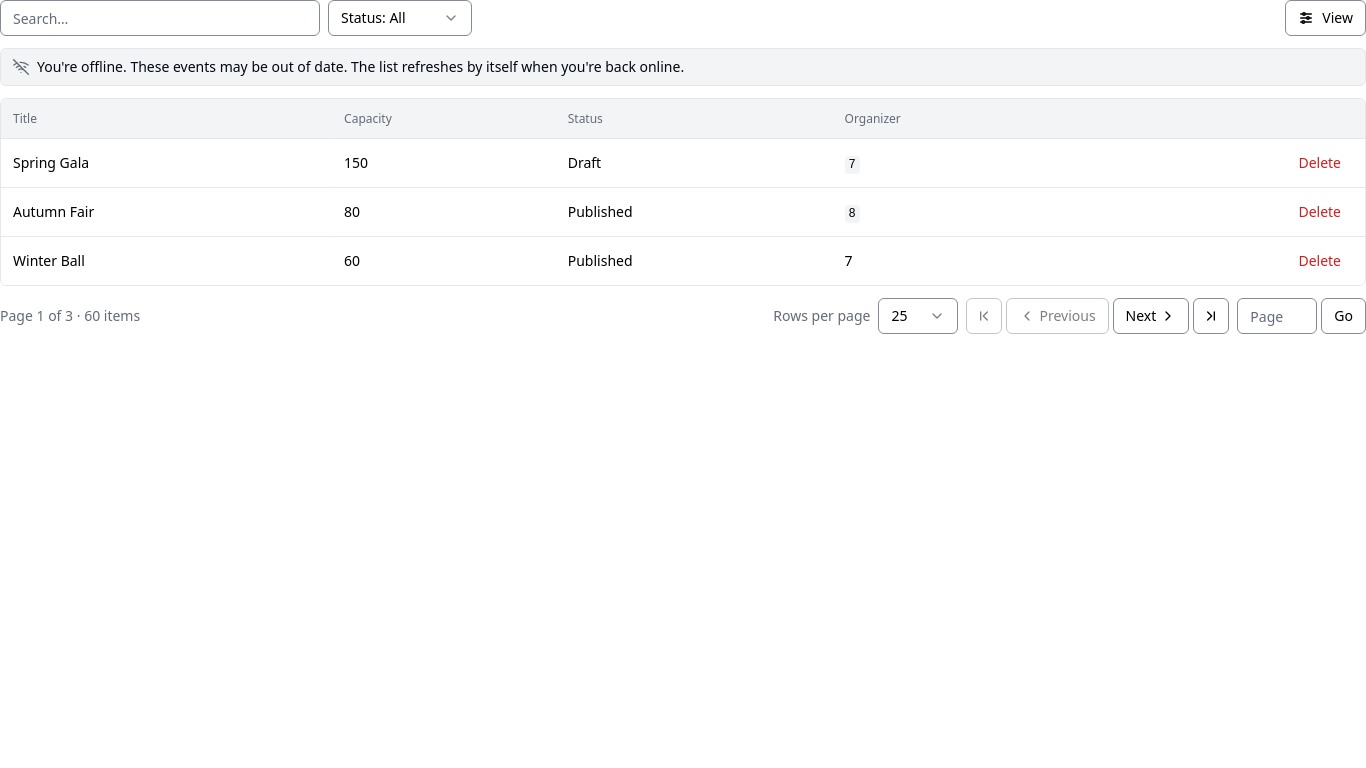
Test case: row delete failures are reported › a refusal says what the role cannot do, and offers no retry
Step 1. Click the button "Delete" in the row of "Spring Gala" → point(1320, 163), box [1286, 147, 1353, 179]
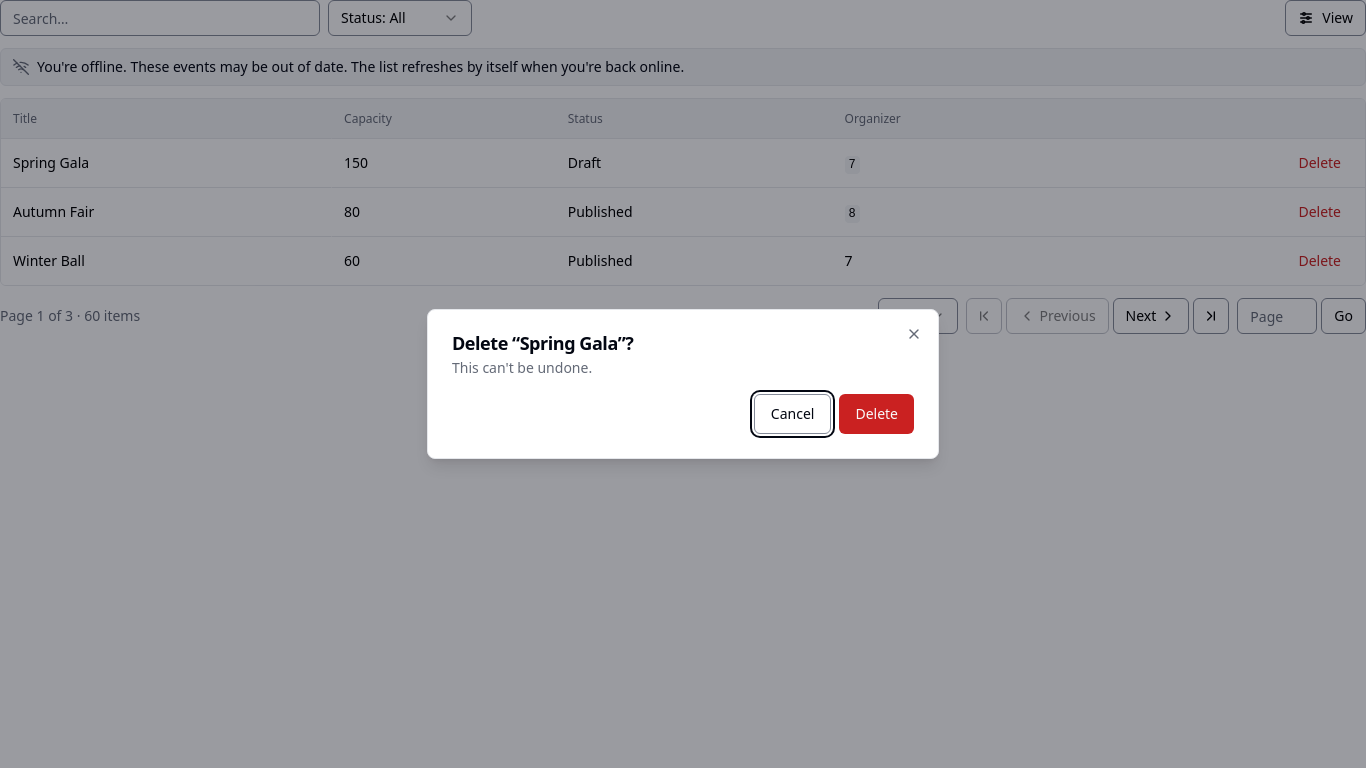
Step 2. Click the button "Delete" → point(877, 414), box [839, 394, 914, 434]
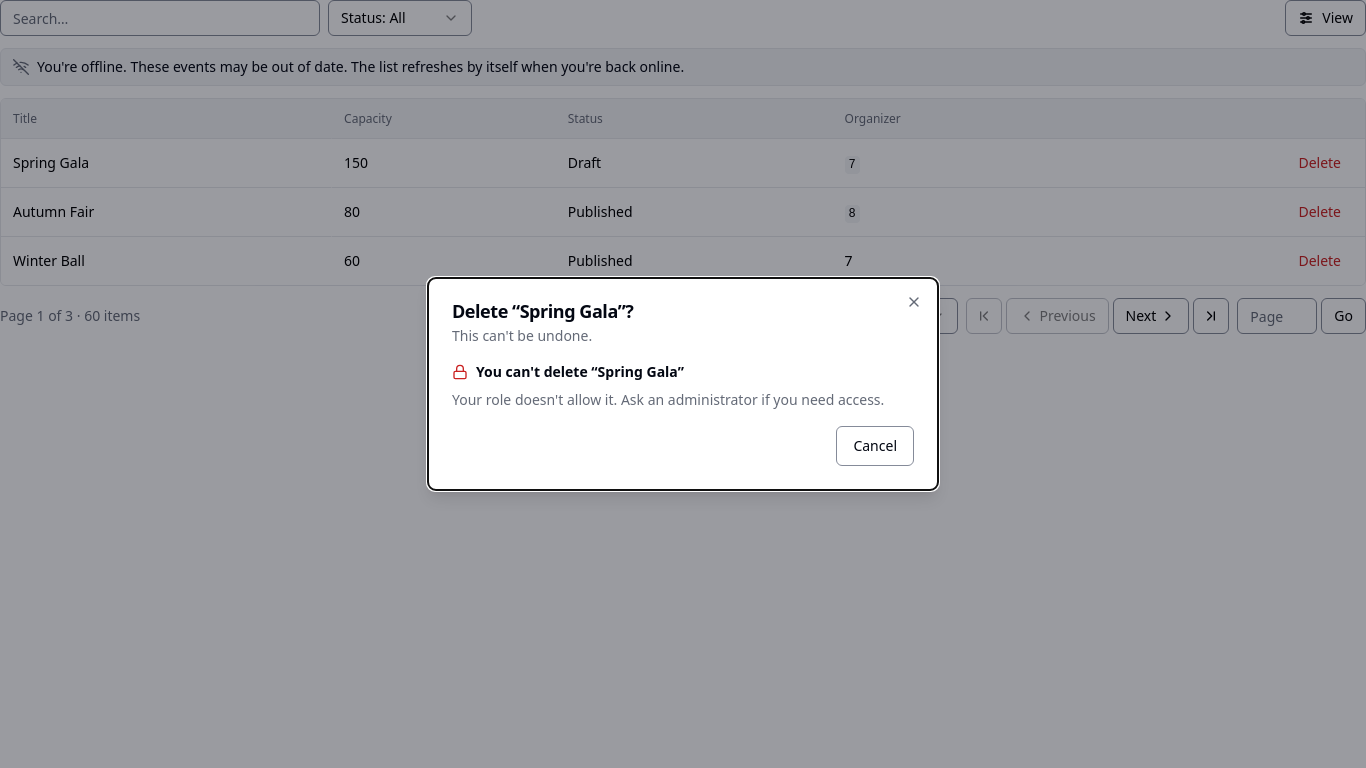
expect the message shows "You can't delete “Spring Gala”": met, box [476, 362, 684, 381]
Step 3. Click the button "Cancel" → point(875, 446), box [836, 426, 914, 466]
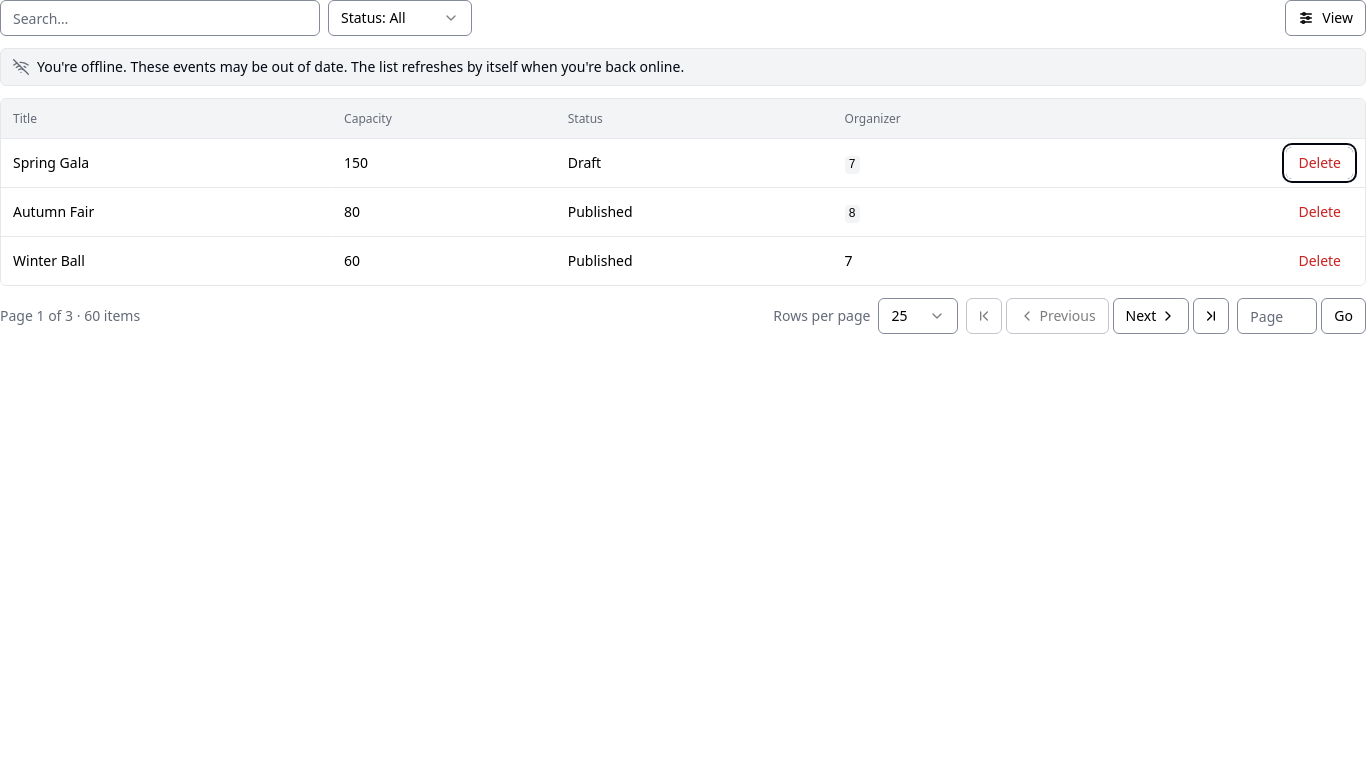
expect the dialog is gone: met
